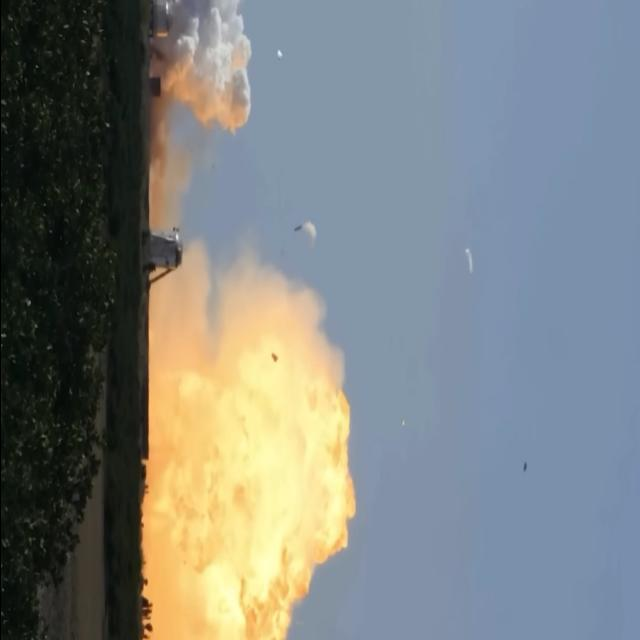Missile: (289, 218, 310, 236)
